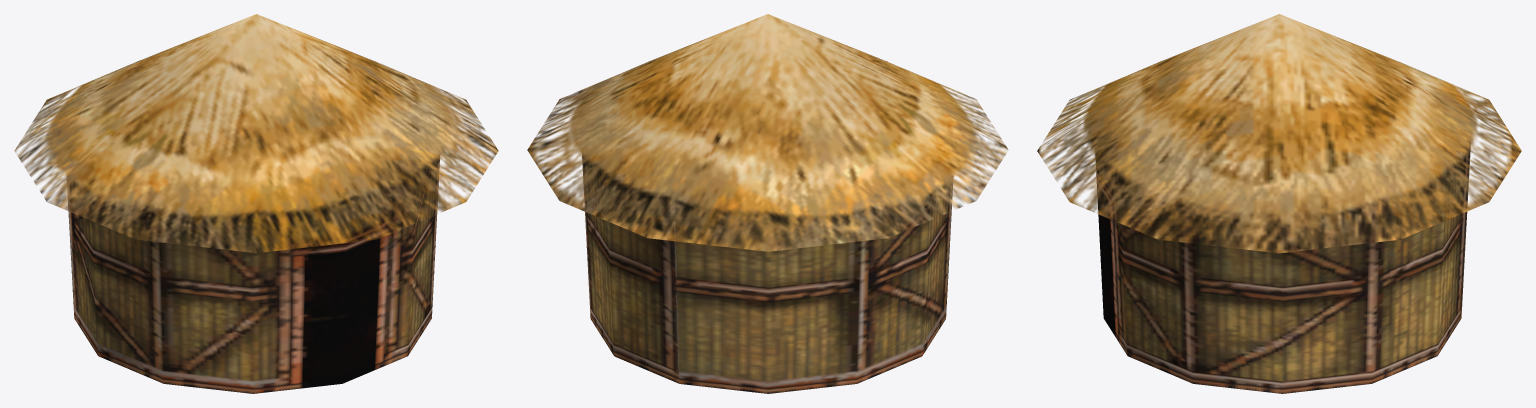
Rendered from Environment - Prop - Gras Hut 03 - PMGrasHut03.glb.
3 renders of one model, left to right at view 1: azimuth 30°, elevation 25°; view 2: azimuth 150°, elevation 25°; view 3: azimuth 270°, elevation 25°, orthographic.
Parts seen in each view (by area): view 1: PMGRASHUT03; view 2: PMGRASHUT03; view 3: PMGRASHUT03.
Boxes of the visible parts, x1,y1,x2,y2 form: PMGRASHUT03: (14, 14, 498, 393); PMGRASHUT03: (527, 14, 1007, 393); PMGRASHUT03: (1037, 14, 1521, 393).
Bounding box in the file's own units: 31.83 × 22.12 × 31.83.
1 material, 1 textured.
